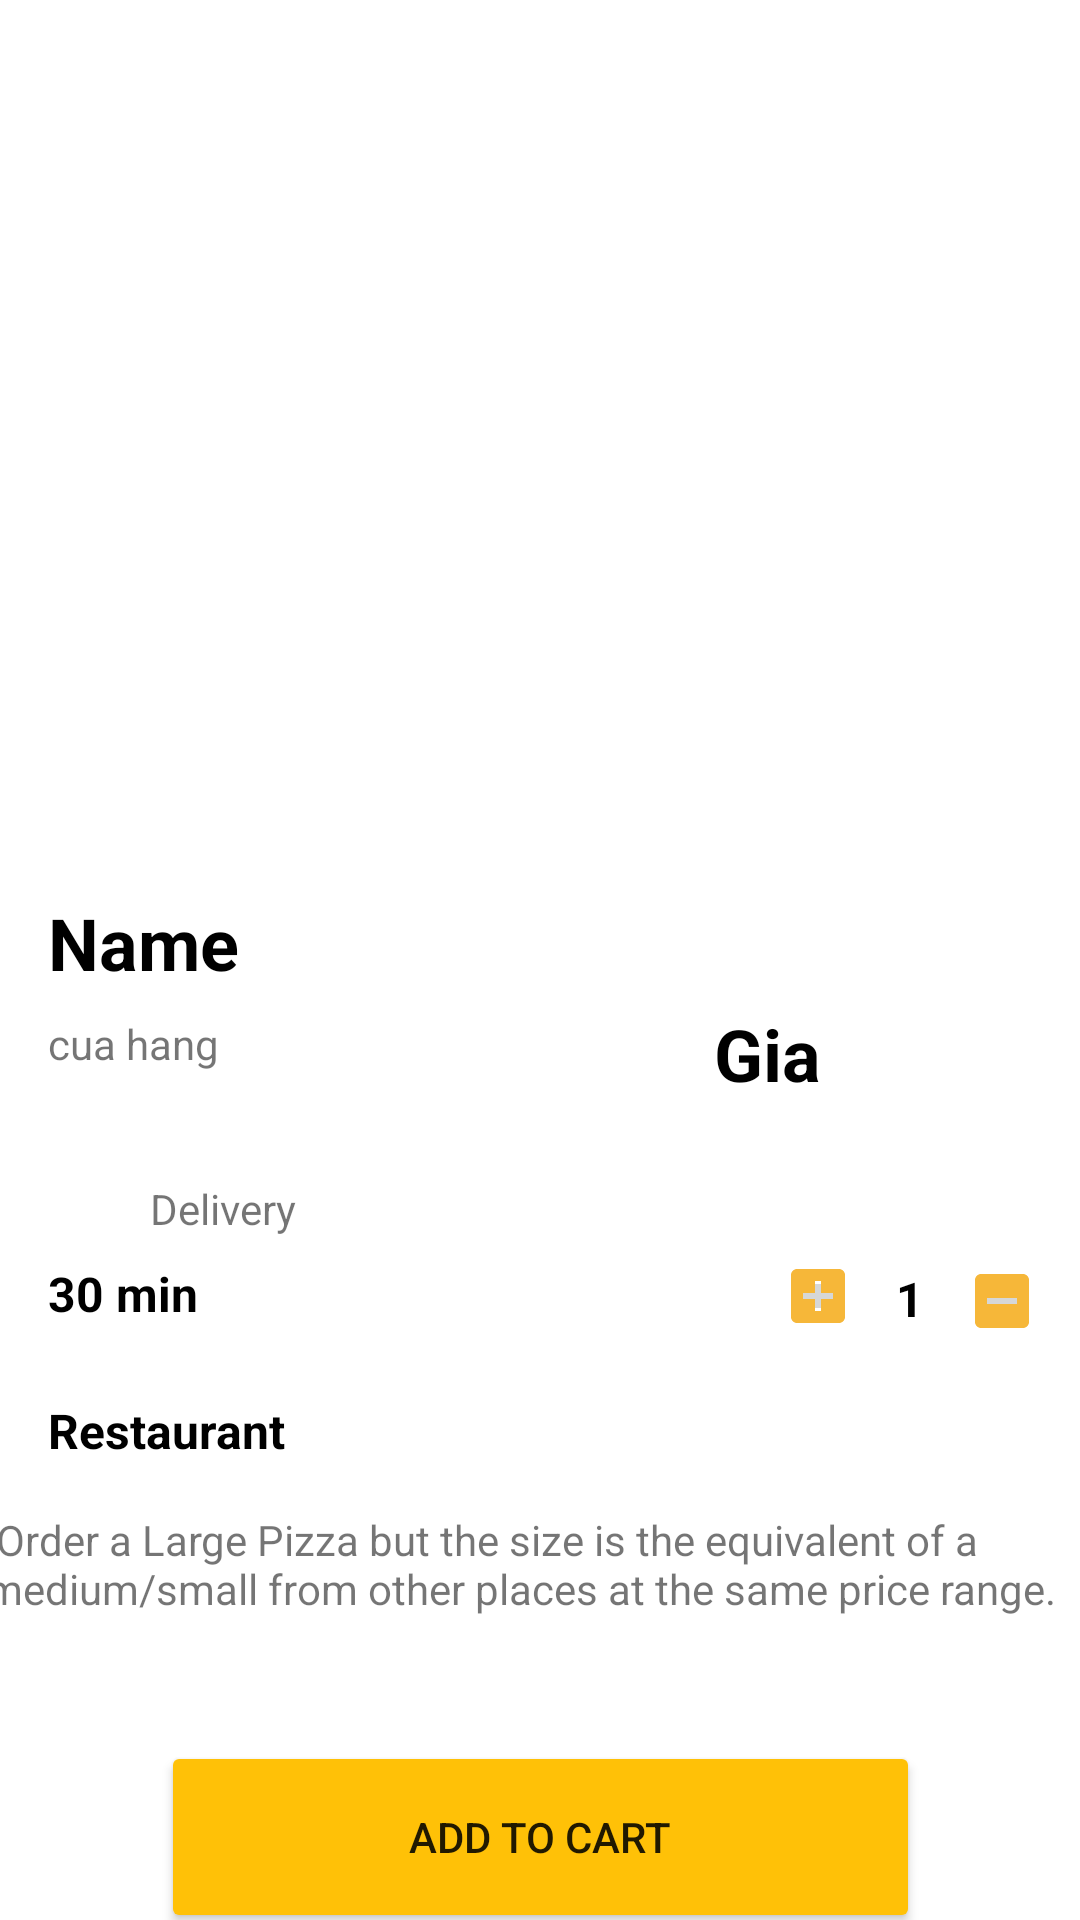

Where to tap for icons on this 1080×1920 app screen, as point (x, y):
add box: point (818, 1296)
indeterminate check box: point (1002, 1301)
